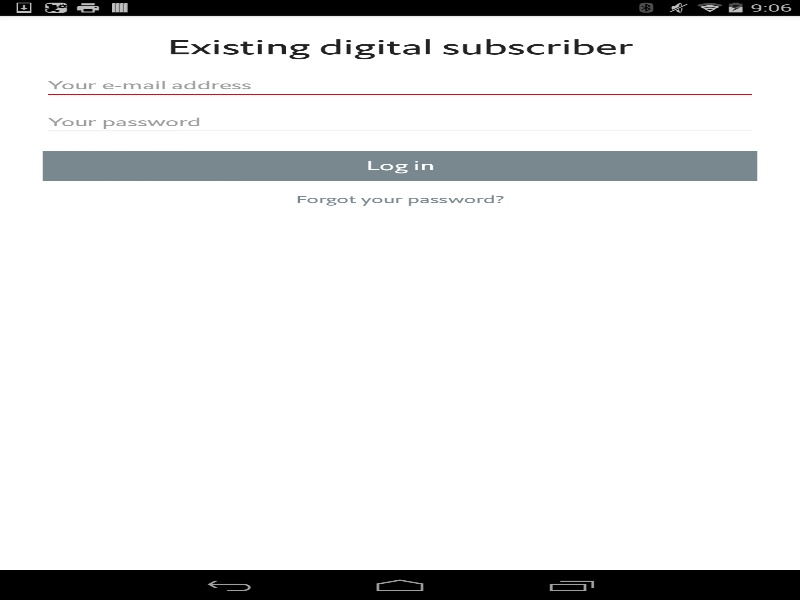Button: (42, 151, 757, 181)
Input: (42, 72, 757, 99), (42, 109, 757, 136)
